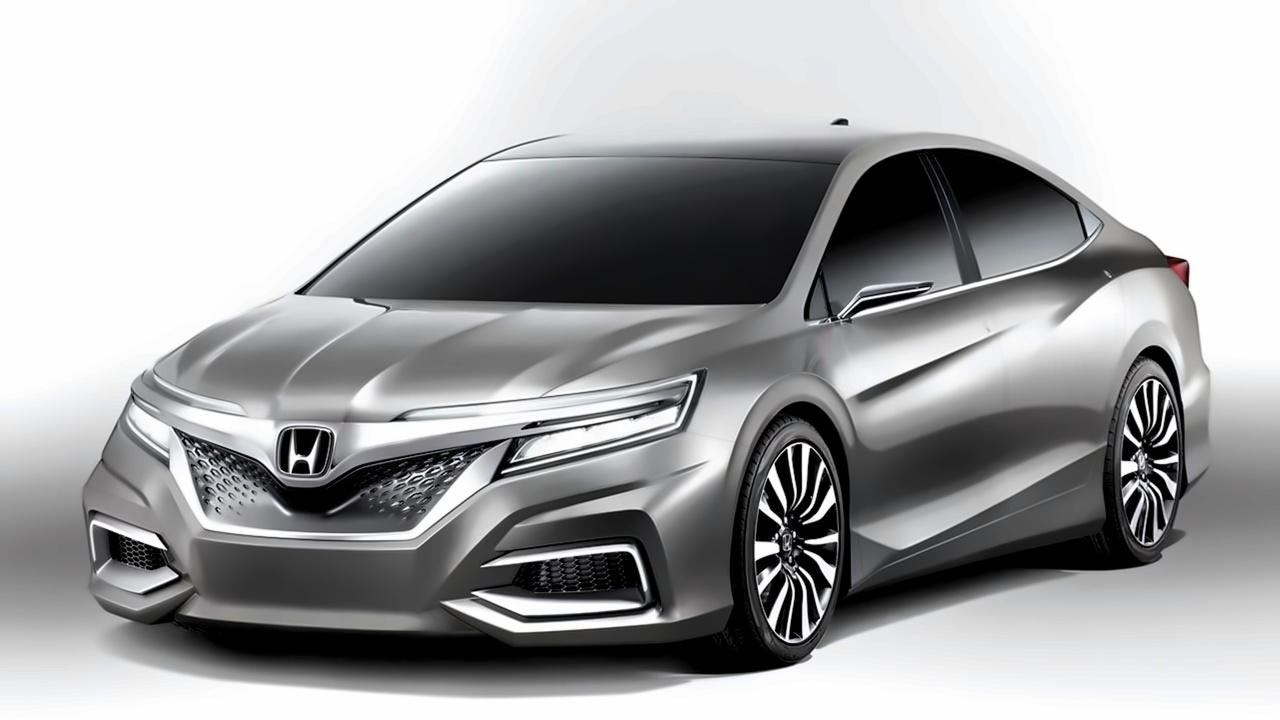Car hood: (137, 285, 769, 428)
Fender - -F-L-: (683, 292, 859, 587)
Fender - -R-L-: (1099, 248, 1191, 505)
Front bumper: (77, 442, 745, 654)
Headlight - -L-: (489, 392, 695, 488)
Headlight - -R-: (114, 389, 195, 472)
Passenger-s door - -F-L-: (833, 144, 1010, 591)
Passenger-s door - -R-L-: (950, 145, 1137, 555)
Rear bumper: (1170, 362, 1226, 501)
Rear light - -L-: (1147, 240, 1201, 297)
Side bumper - -L-: (825, 475, 1121, 601)
Side mirror - -L-: (829, 267, 944, 338)
